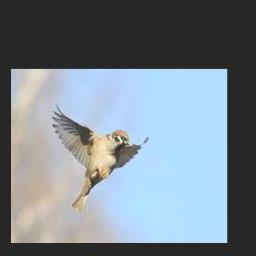Sparrow: (53, 103, 149, 212)
